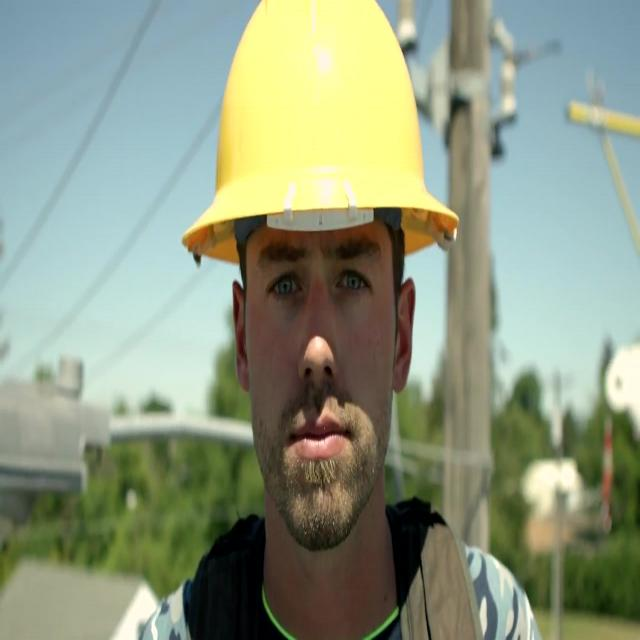Reflective-Jacket: (136, 497, 533, 640)
Safety-Helmet: (187, 13, 457, 270)
